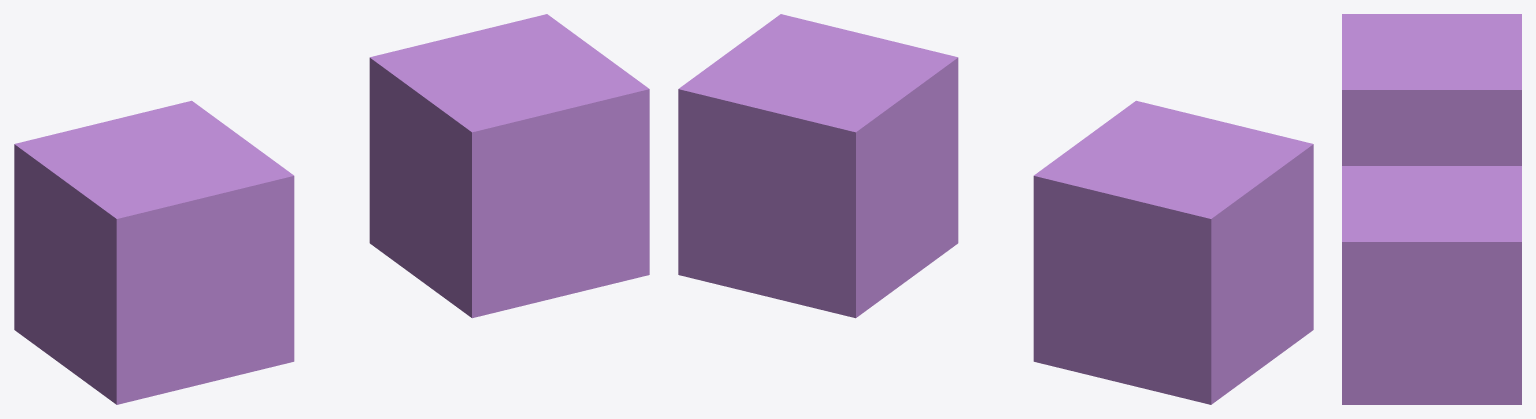
The model's file is multi-mesh.glb.
The picture shows the model from 3 angles, left to right: view 1: azimuth 30°, elevation 25°; view 2: azimuth 150°, elevation 25°; view 3: azimuth 270°, elevation 25°; orthographic projection. The views are drawn at different scales.
Visible parts, largest first — view 1: BoxA, BoxB; view 2: BoxA, BoxB; view 3: BoxB, BoxA.
Boxes of the visible parts, box(x1,y1,x2,y2) form: BoxA: box(14, 100, 294, 404); BoxB: box(369, 14, 649, 318); BoxA: box(1033, 100, 1313, 404); BoxB: box(678, 14, 958, 318); BoxB: box(1342, 166, 1521, 404); BoxA: box(1342, 14, 1521, 165).
Bounding box in the file's own units: 3 × 1 × 1.
